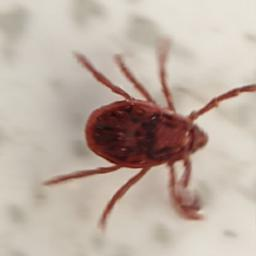Rhipicephalus sanguineus: (43, 40, 256, 230)
